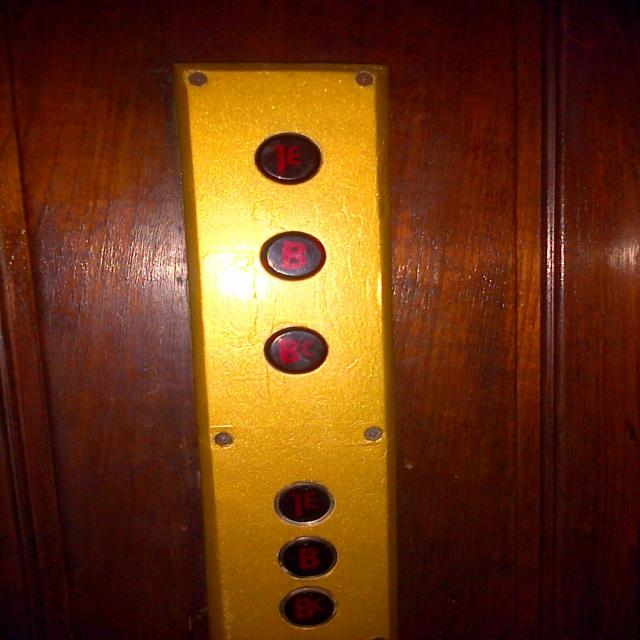1E: (253, 130, 325, 184), (274, 479, 336, 526)
B: (258, 227, 329, 282), (277, 534, 340, 580)
BC: (262, 324, 331, 378), (278, 584, 340, 630)
